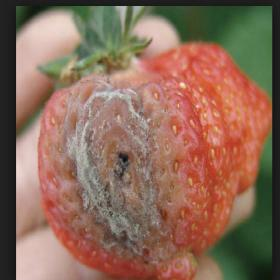Gray Mold: (38, 57, 217, 279)
